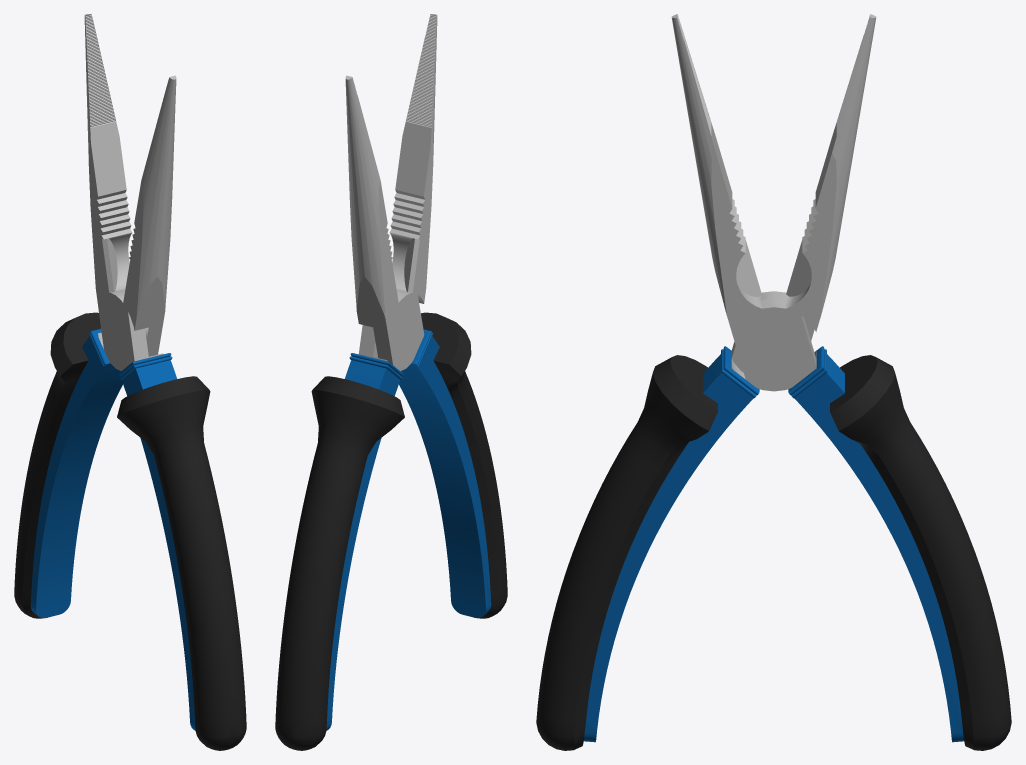
Rendered from Needlenose.fbx.
The picture shows the model from 3 angles, left to right: view 1: azimuth 30°, elevation 25°; view 2: azimuth 150°, elevation 25°; view 3: azimuth 270°, elevation 25°; orthographic projection. The views are drawn at different scales.
Visible parts, largest first — view 1: Model; view 2: Model; view 3: Model.
Part boxes in pixels (bbox=[...]): Model: bbox=[14, 14, 246, 750]; Model: bbox=[275, 14, 507, 750]; Model: bbox=[536, 14, 1011, 750].
Size of the model in its own units: 5.2 by 36.81 by 21.66.
